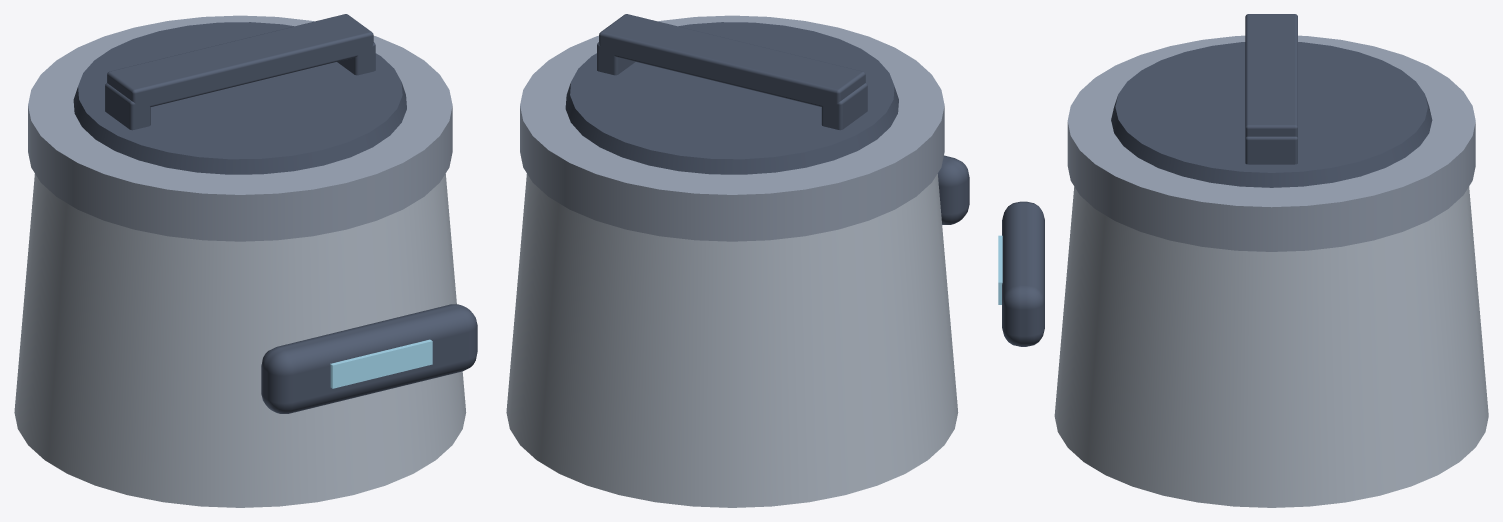
File: ricecooker.glb
3 views of the same model, side by side, from view 1: azimuth 30°, elevation 25°; view 2: azimuth 150°, elevation 25°; view 3: azimuth 270°, elevation 25° (orthographic). The views are drawn at different scales.
Parts seen in each view (by area): view 1: ricecooker; view 2: ricecooker; view 3: ricecooker.
Part boxes in pixels (left/top/right/bottom): ricecooker: left=14, top=14, right=477, bottom=507; ricecooker: left=506, top=14, right=969, bottom=507; ricecooker: left=998, top=14, right=1488, bottom=507.
Size of the model in its own units: 0.2632 by 0.2319 by 0.2974.
